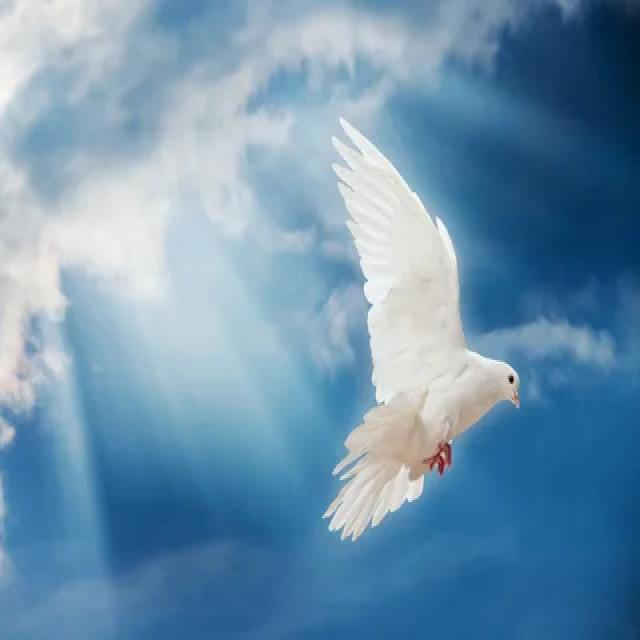pigeon: (314, 100, 524, 555)
